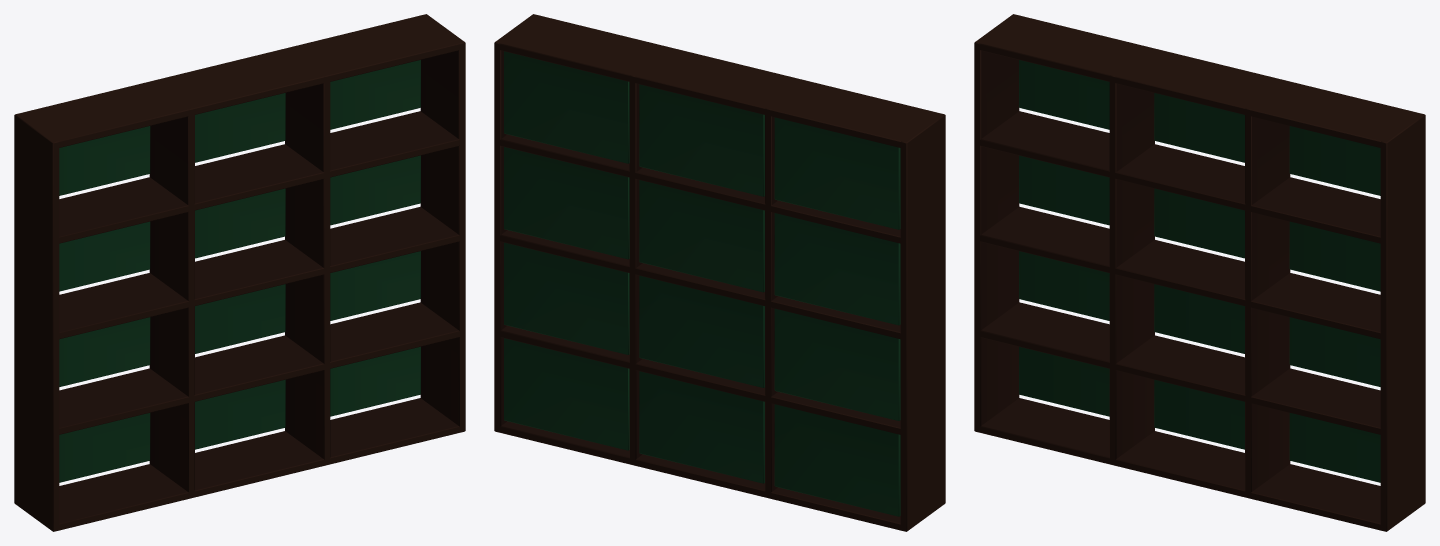
Rendered from mall-shelf-leather.glb.
3 renders of one model, left to right at view 1: azimuth 30°, elevation 25°; view 2: azimuth 150°, elevation 25°; view 3: azimuth 330°, elevation 25°, orthographic.
Parts seen in each view (by area): view 1: frame__wood, panels__leather; view 2: panels__leather, frame__wood; view 3: frame__wood, panels__leather.
Part boxes in pixels (x1=…): frame__wood: x1=14, y1=14, x2=465, y2=531; panels__leather: x1=59, y1=60, x2=420, y2=482; panels__leather: x1=504, y1=51, x2=900, y2=516; frame__wood: x1=494, y1=14, x2=945, y2=531; frame__wood: x1=974, y1=14, x2=1425, y2=531; panels__leather: x1=1019, y1=60, x2=1380, y2=482.
Size of the model in its own units: 2.44 by 2.2 by 0.4.
